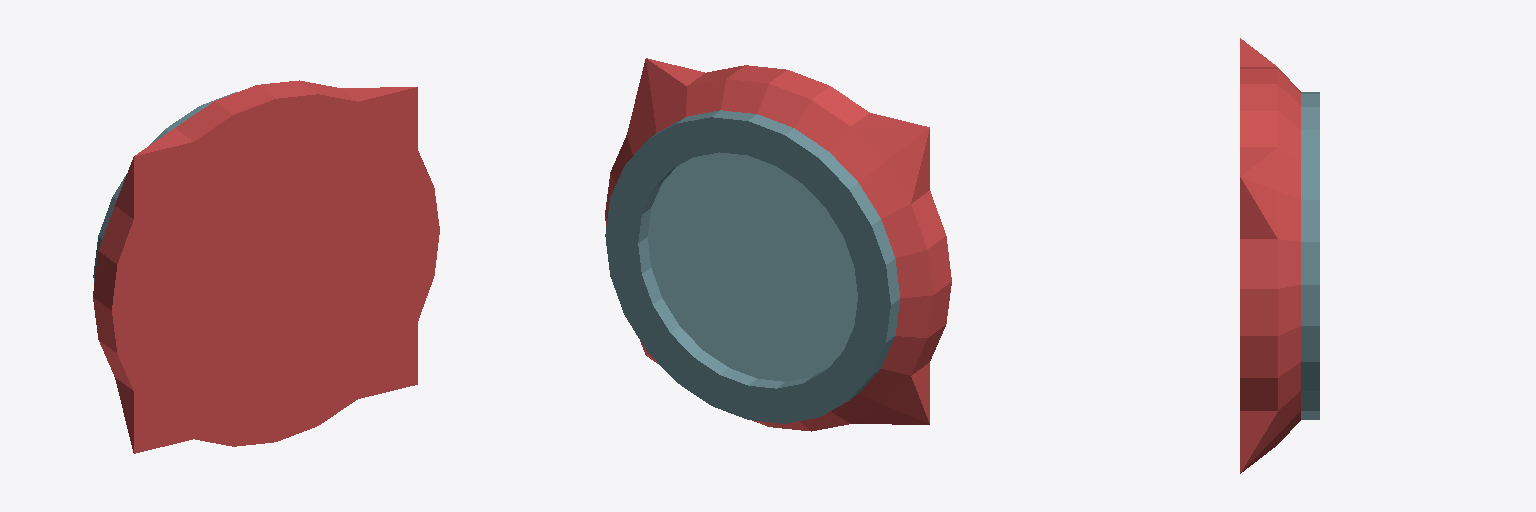
File: towerRound_base.004_clickable.001.obj
3 renders of one model, left to right at view 1: azimuth 30°, elevation 25°; view 2: azimuth 150°, elevation 25°; view 3: azimuth 270°, elevation 25°, orthographic.
Visible parts, largest first — view 1: towerRound_base.001_clickable; view 2: towerRound_base.001_clickable; view 3: towerRound_base.001_clickable.
Boxes of the visible parts, <box> form: towerRound_base.001_clickable: <box>93,80,439,453</box>; towerRound_base.001_clickable: <box>605,58,951,431</box>; towerRound_base.001_clickable: <box>1240,38,1319,473</box>.
Bounding box in the file's own units: 1 × 1 × 0.21.